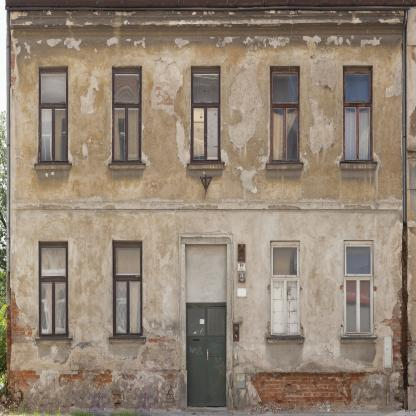Building Outline: (7, 0, 404, 411)
Deco: (238, 244, 245, 261), (238, 272, 245, 282), (238, 263, 245, 271)
Door: (187, 307, 226, 408)
Facade: (7, 0, 404, 411)
Floor Slab: (9, 203, 404, 214)
Ground Floor: (9, 214, 404, 411)
Sill: (188, 163, 224, 169), (340, 163, 376, 169), (110, 163, 146, 169), (35, 163, 71, 169), (267, 163, 303, 169), (340, 337, 376, 342), (110, 337, 146, 342), (35, 337, 71, 342), (267, 337, 303, 342)
Top Floor: (9, 9, 404, 203)
Window: (343, 66, 373, 163), (270, 66, 300, 163), (343, 240, 373, 336), (270, 240, 300, 336), (191, 66, 220, 163), (39, 66, 68, 163), (112, 66, 141, 163), (39, 240, 68, 336), (113, 240, 142, 336)
